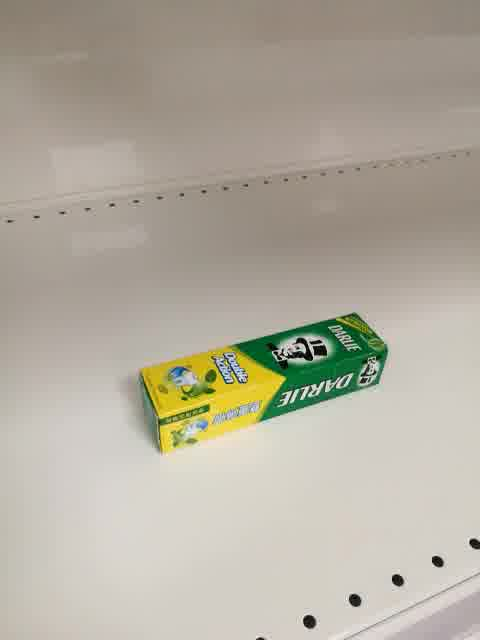toothpaste: (138, 312, 387, 453)
